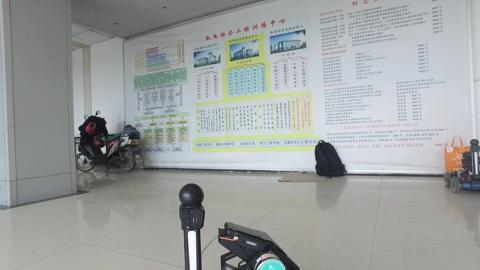bag: (312, 137, 349, 180), (442, 133, 471, 176)
chariot: (443, 138, 480, 192)
